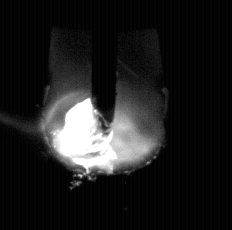arame: (91, 0, 118, 136)
poca: (40, 0, 164, 230)
